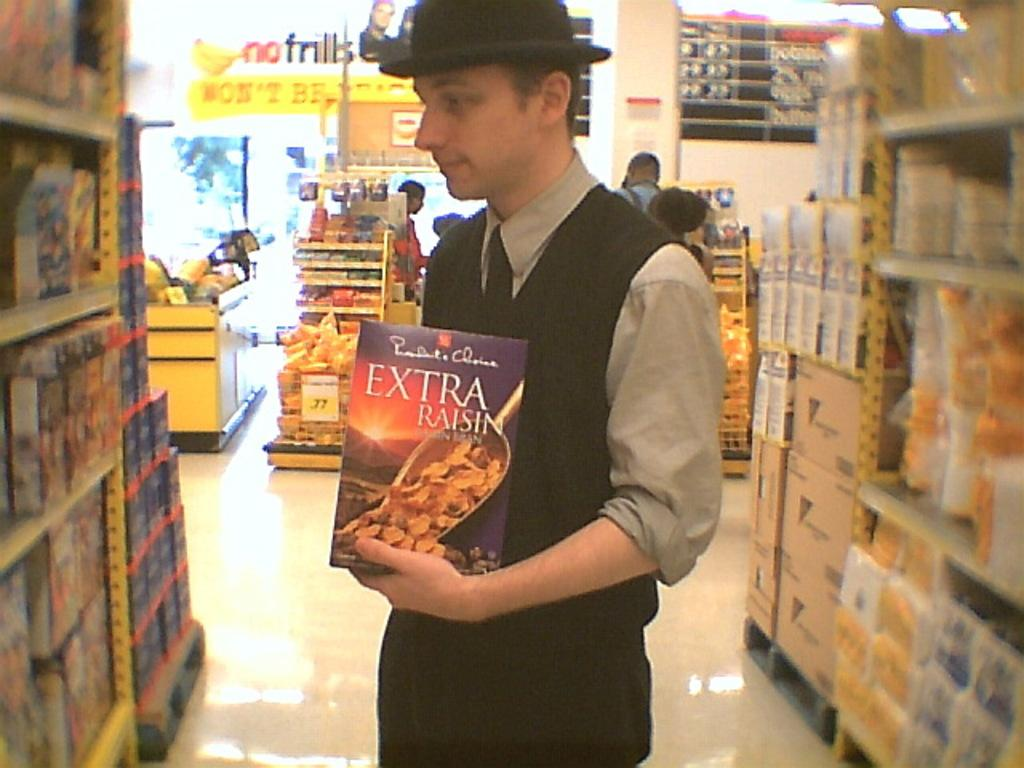Hat: (375, 0, 609, 78)
